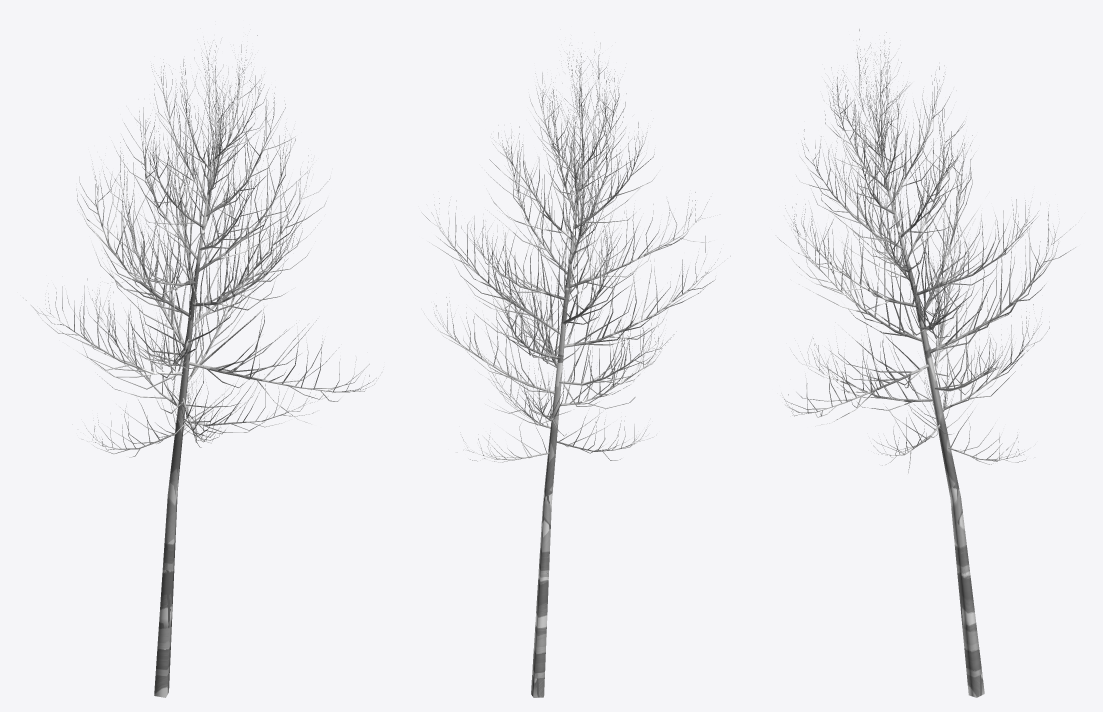
Rendered from treeDiffuseSpecular.dae.
3 views of the same model, side by side, from view 1: azimuth 30°, elevation 25°; view 2: azimuth 150°, elevation 25°; view 3: azimuth 270°, elevation 25° (orthographic). The views are drawn at different scales.
Visible parts, largest first — view 1: tree; view 2: tree; view 3: tree.
Boxes of the visible parts, left/top/right/bottom form: tree: left=26, top=35, right=381, bottom=697; tree: left=421, top=37, right=733, bottom=697; tree: left=771, top=29, right=1079, bottom=697.
Bounding box in the file's own units: 7.61 × 7.7 × 17.9.
1 material, 1 textured.
